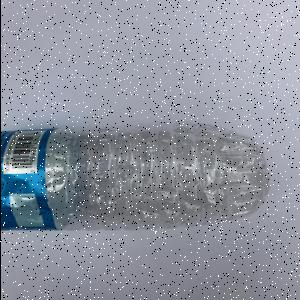Plastic-bottle: (2, 123, 271, 235)
